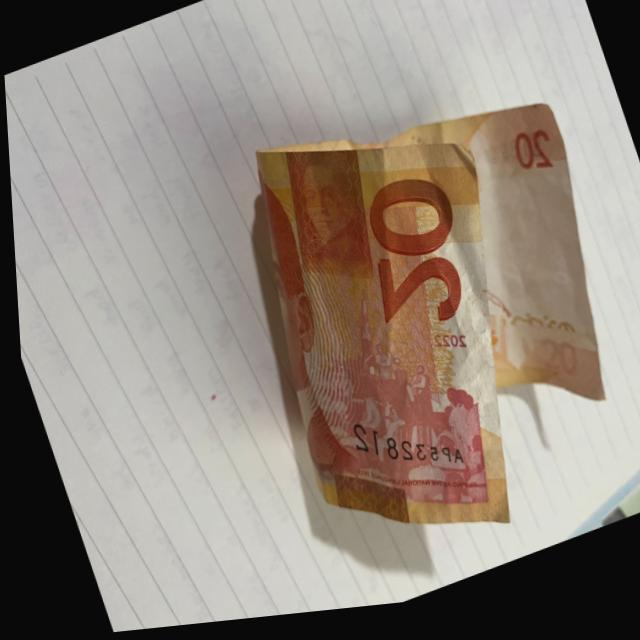concealed_value: (280, 158, 367, 281)
serial_number: (340, 415, 464, 480)
value: (334, 159, 479, 364)
watermark: (487, 189, 577, 350)
